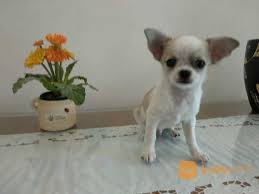Bulldog: (125, 22, 231, 174)
